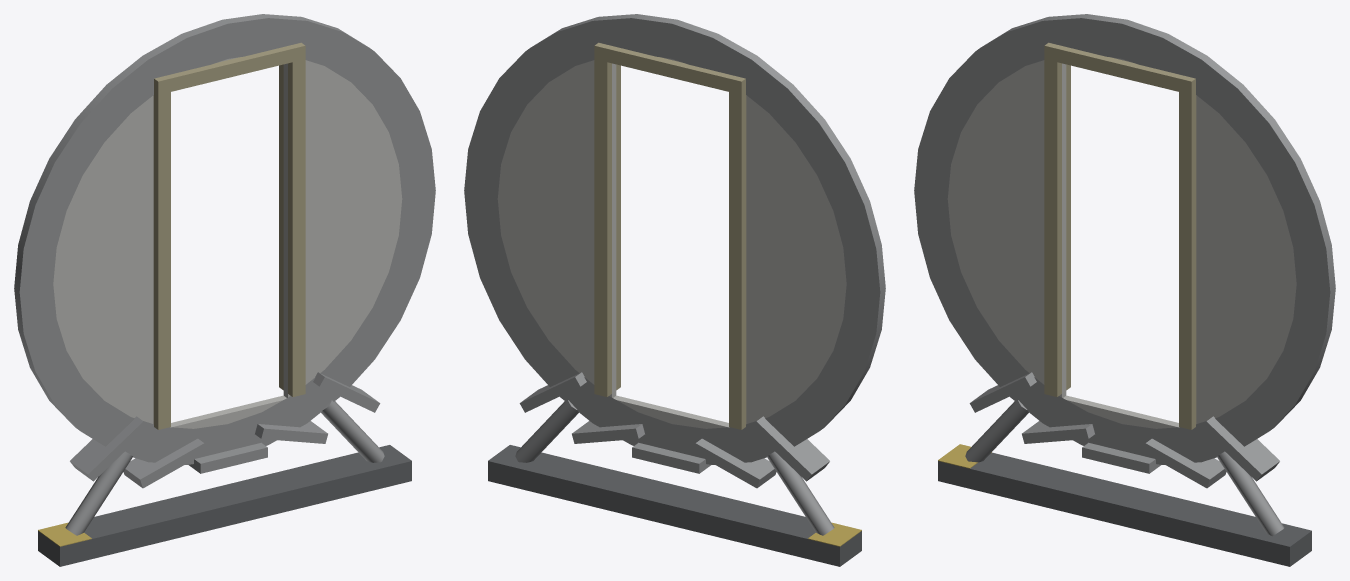
The model's file is habBulkhead_steel.glb.
3 views of the same model, side by side, from view 1: azimuth 30°, elevation 25°; view 2: azimuth 150°, elevation 25°; view 3: azimuth 330°, elevation 25° (orthographic).
Parts seen in each view (by area): view 1: habBulkhead_steel; view 2: habBulkhead_steel; view 3: habBulkhead_steel.
Part boxes in pixels (x1=…): habBulkhead_steel: x1=14, y1=14, x2=435, y2=566; habBulkhead_steel: x1=464, y1=14, x2=885, y2=566; habBulkhead_steel: x1=914, y1=14, x2=1335, y2=566.
Size of the model in its own units: 2.6 by 2.95 by 0.24.
